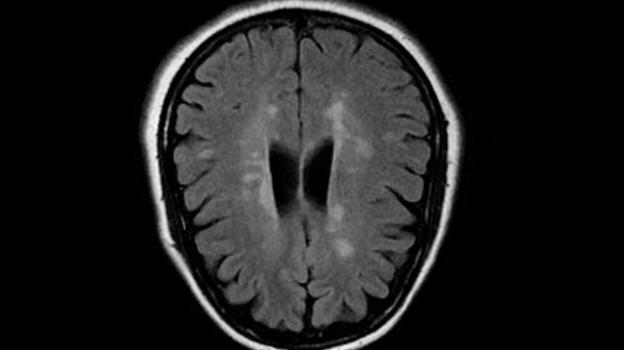Normal_Brain: (109, 1, 510, 350)
